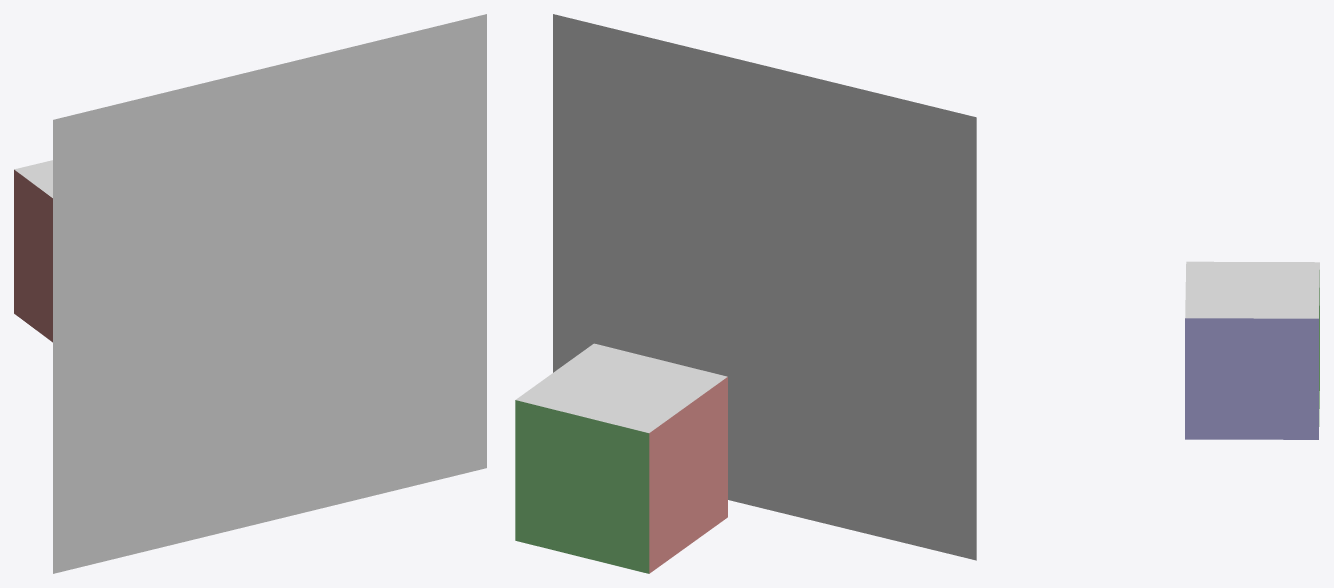
Rendered from Cornell_box.fbx.
The picture shows the model from 3 angles, left to right: view 1: azimuth 30°, elevation 25°; view 2: azimuth 150°, elevation 25°; view 3: azimuth 270°, elevation 25°; orthographic projection. The views are drawn at different scales.
Visible parts, largest first — view 1: Plane.005, Plane.002, Plane.001; view 2: Plane.005, Plane.004, Plane.002, Plane.001; view 3: Plane.003, Plane.001.
Boxes of the visible parts, <box> form: Plane.005: <box>53,14,486,573</box>; Plane.002: <box>14,169,52,342</box>; Plane.001: <box>14,160,52,197</box>; Plane.005: <box>553,14,976,560</box>; Plane.004: <box>515,400,649,573</box>; Plane.002: <box>649,377,727,573</box>; Plane.001: <box>516,343,727,432</box>; Plane.003: <box>1185,318,1318,439</box>; Plane.001: <box>1185,261,1319,318</box>.
Size of the model in its own units: 9.49 by 9.49 by 7.1.
